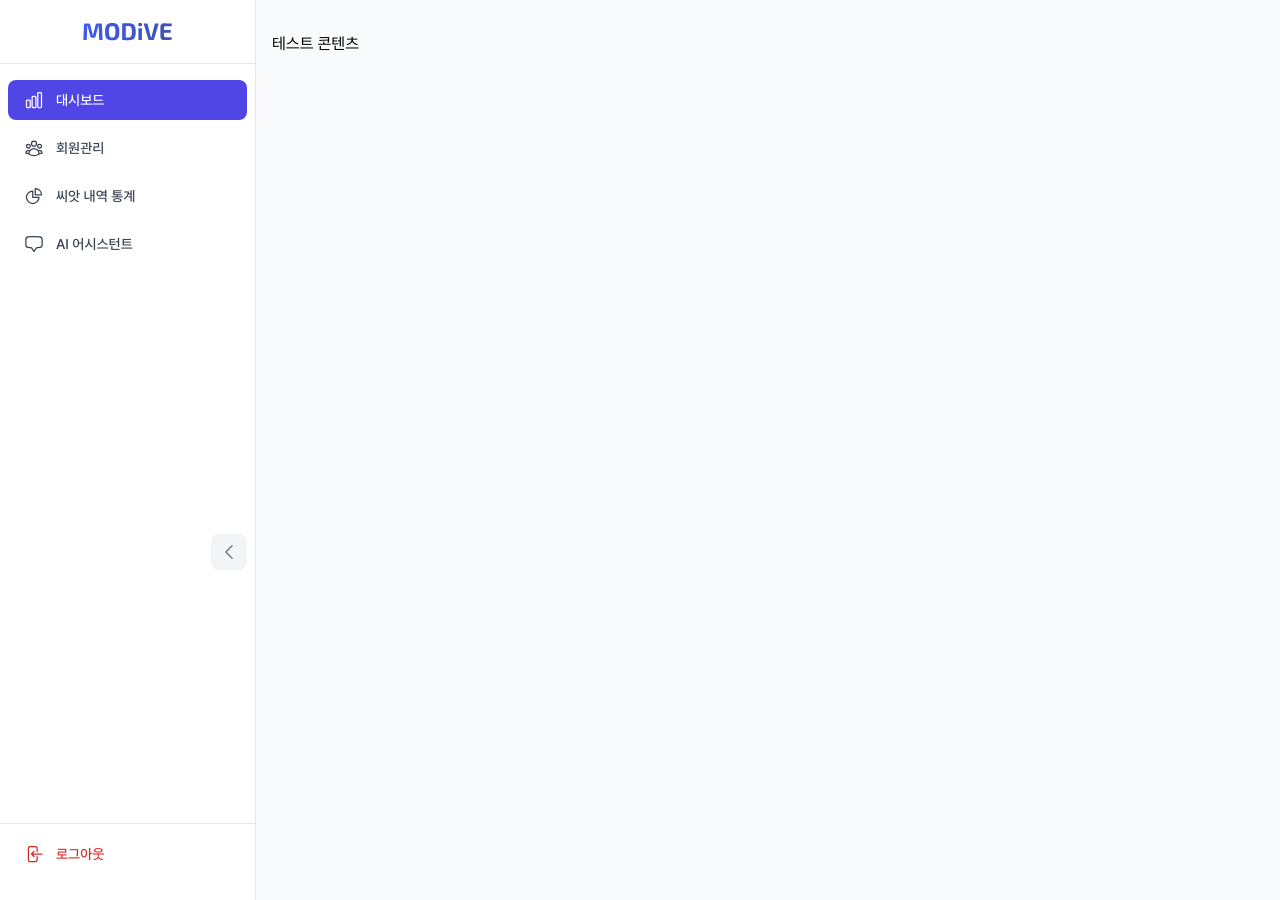
it: Layout › TC-LAYOUT-004::Unit::컴포넌트 동작::로그아웃 버튼 클릭::확인 모달 표시
This screenshot has width=1280, height=900.
Click the button "로그아웃" at x=128, y=854, box [8,832,247,876]
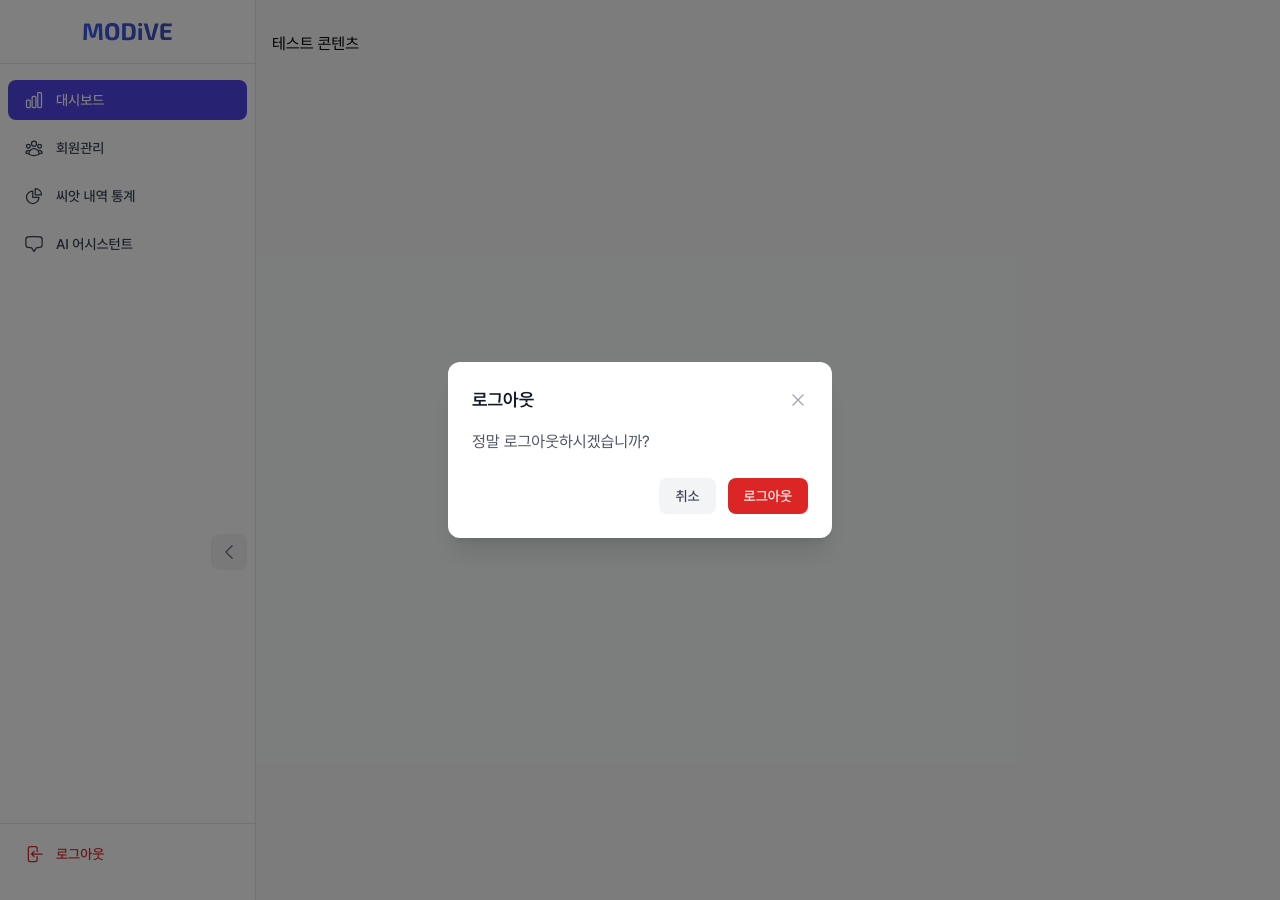
Expected: the text "정말 로그아웃하시겠습니까?" is shown, [472,432,650,451]
